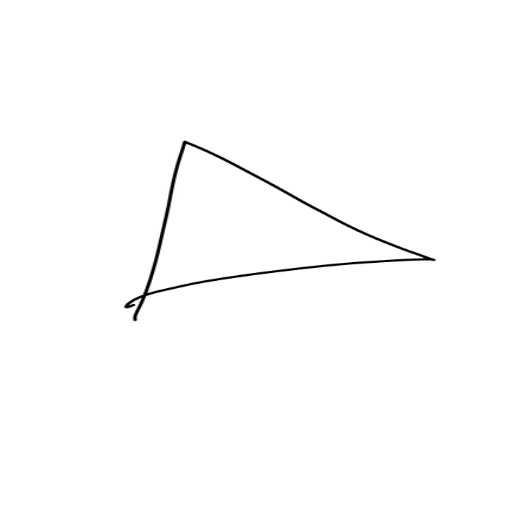triangle: (119, 137, 444, 328)
